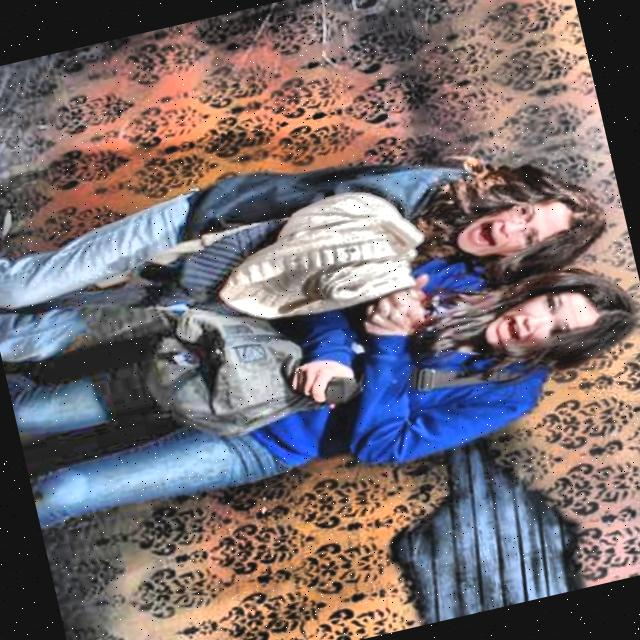fear: (446, 260, 640, 398), (434, 172, 599, 288)
